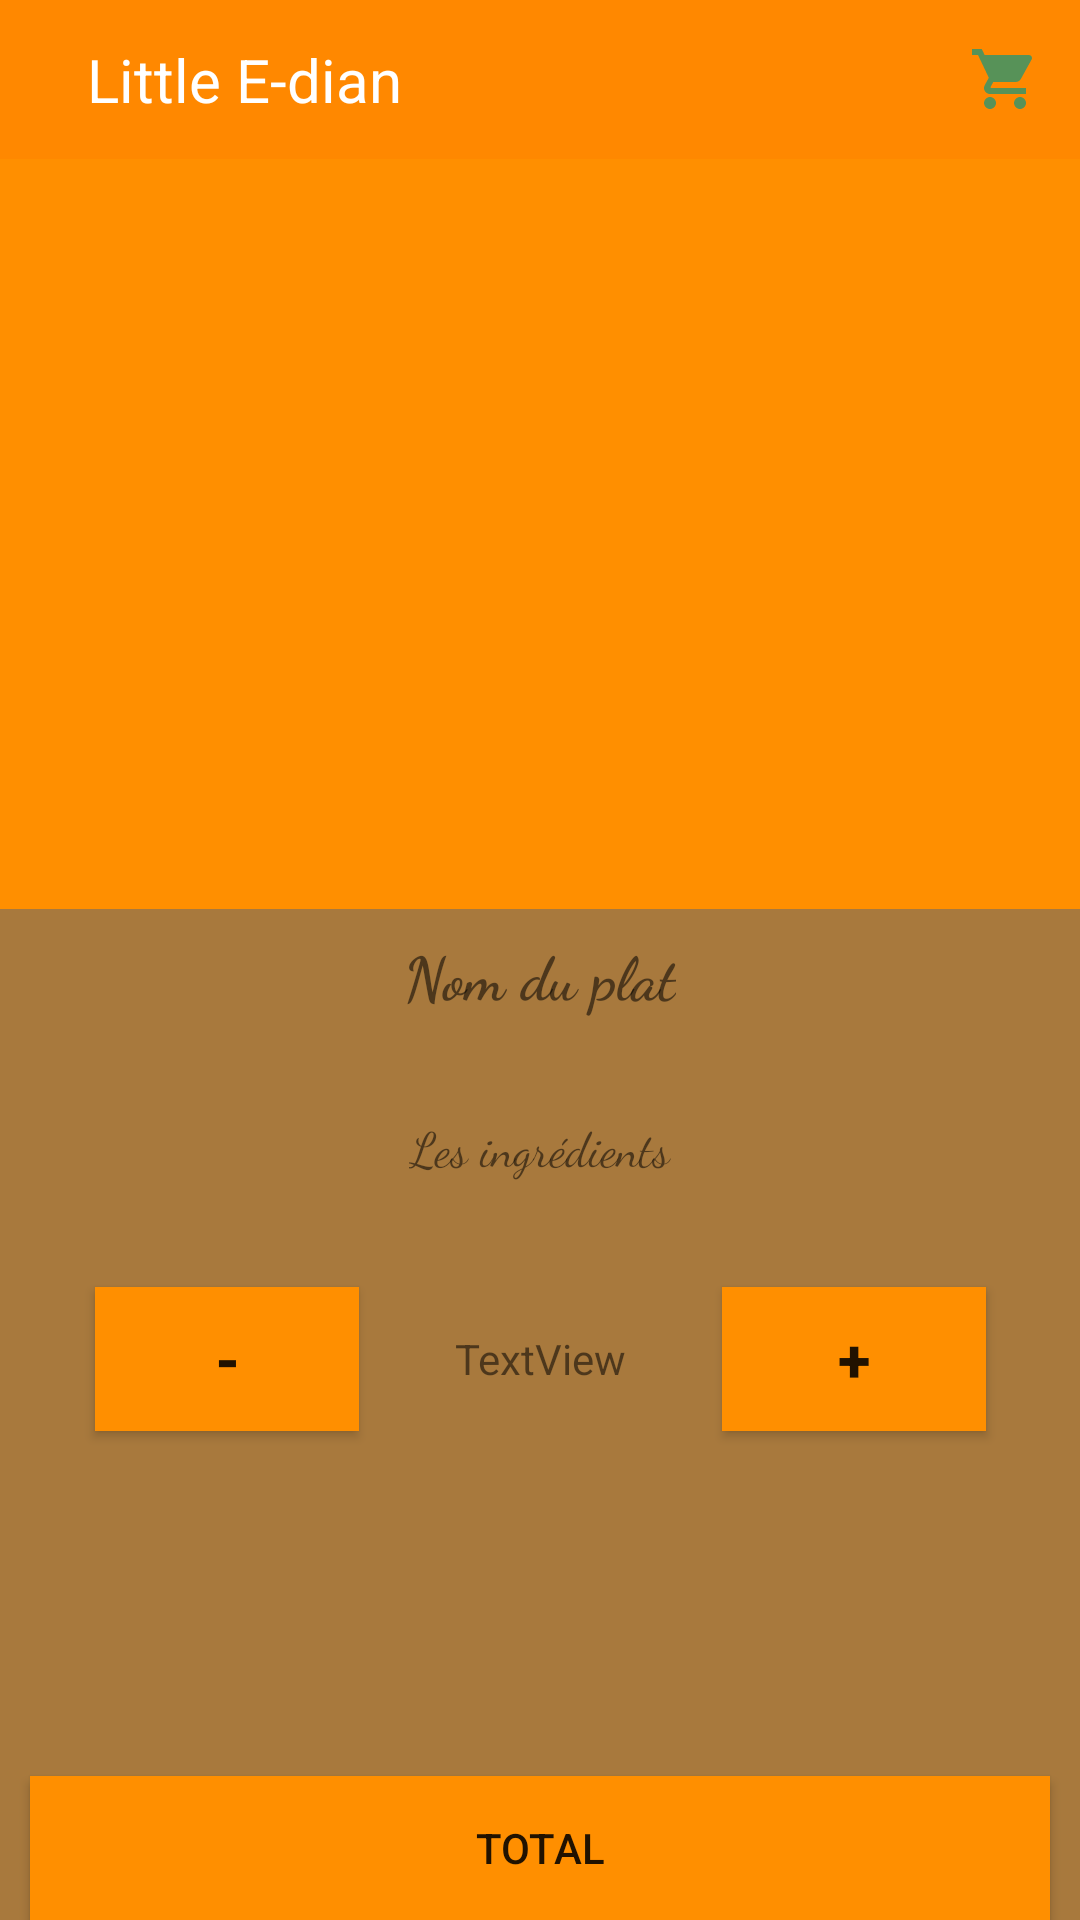

Screen size 1080w x 1920h. Icon name, then its box in pixels as Rect(x1, y1, x2, y2):
shopping cart: Rect(972, 49, 1032, 109)
